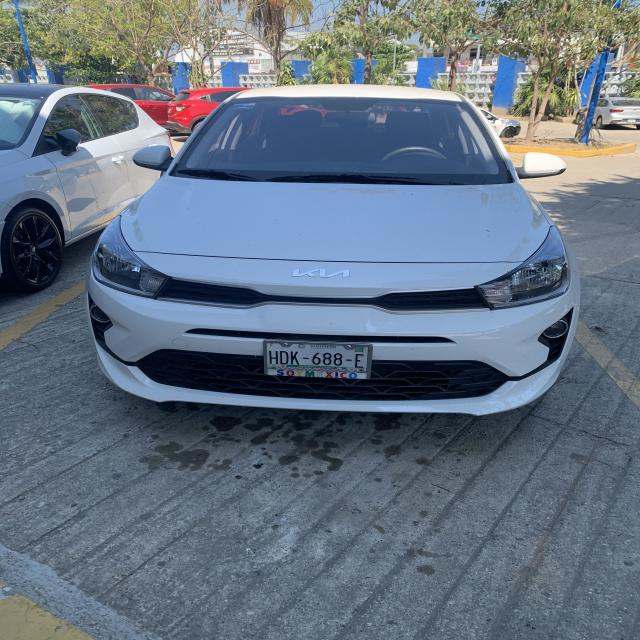placa: (262, 347, 374, 373)
